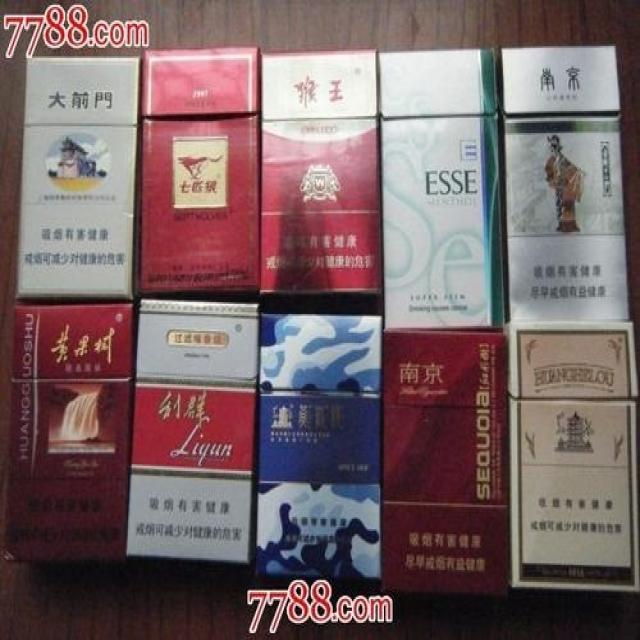box: (494, 44, 631, 331), (507, 321, 640, 594), (253, 316, 381, 599), (125, 300, 260, 567), (1, 300, 138, 561), (378, 48, 504, 331), (380, 329, 509, 597), (134, 46, 262, 302), (260, 46, 383, 307), (17, 56, 142, 302)
